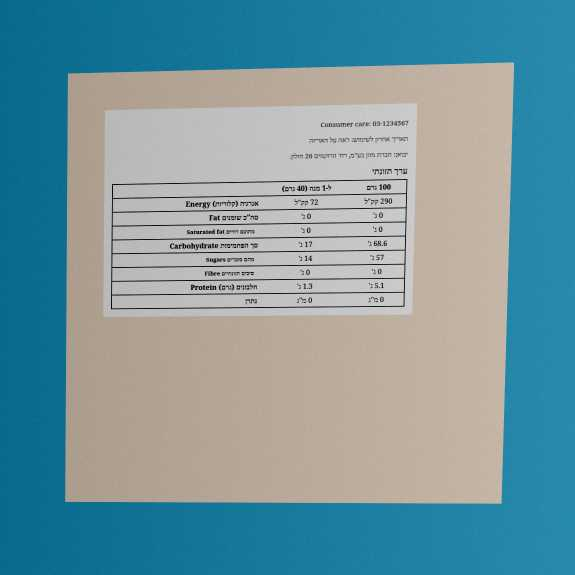carbs: (366, 237, 389, 250)
energy: (363, 195, 394, 207)
fat: (372, 209, 384, 221)
protein: (367, 279, 386, 292)
